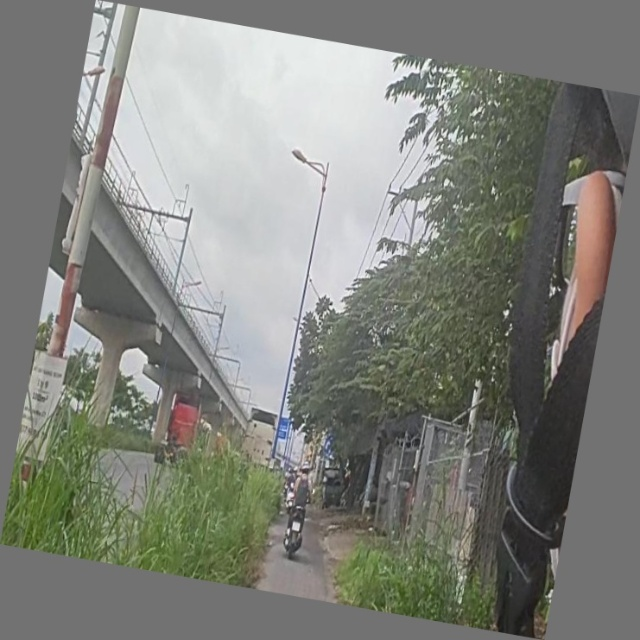I.409: (323, 437, 336, 456)
